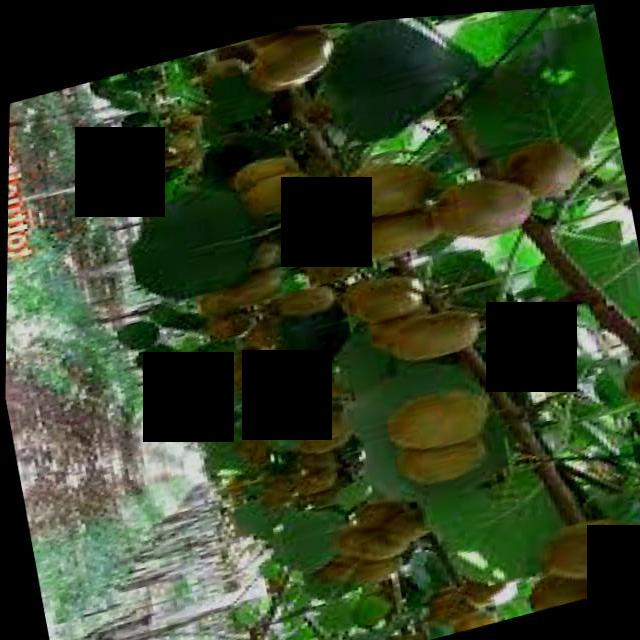kiwi: (384, 377, 500, 463), (432, 167, 542, 250), (300, 168, 411, 243), (545, 508, 640, 591), (341, 152, 439, 226), (387, 302, 490, 368), (351, 200, 454, 264), (396, 429, 496, 494), (247, 25, 341, 93), (506, 134, 588, 206), (341, 267, 431, 329), (529, 560, 628, 612), (244, 164, 322, 217), (371, 299, 446, 348), (234, 148, 308, 196), (384, 502, 450, 548), (428, 586, 497, 630), (249, 304, 318, 348), (462, 565, 526, 612), (226, 261, 290, 308), (279, 278, 344, 319), (341, 517, 400, 558), (262, 337, 321, 378), (357, 494, 416, 533), (302, 404, 361, 443), (205, 50, 258, 93), (363, 525, 419, 563), (605, 536, 640, 593), (301, 437, 356, 473), (321, 547, 376, 583), (206, 305, 258, 343), (302, 422, 357, 456), (354, 550, 402, 585), (299, 464, 344, 498), (456, 608, 502, 631), (623, 357, 640, 419), (381, 628, 431, 640)
